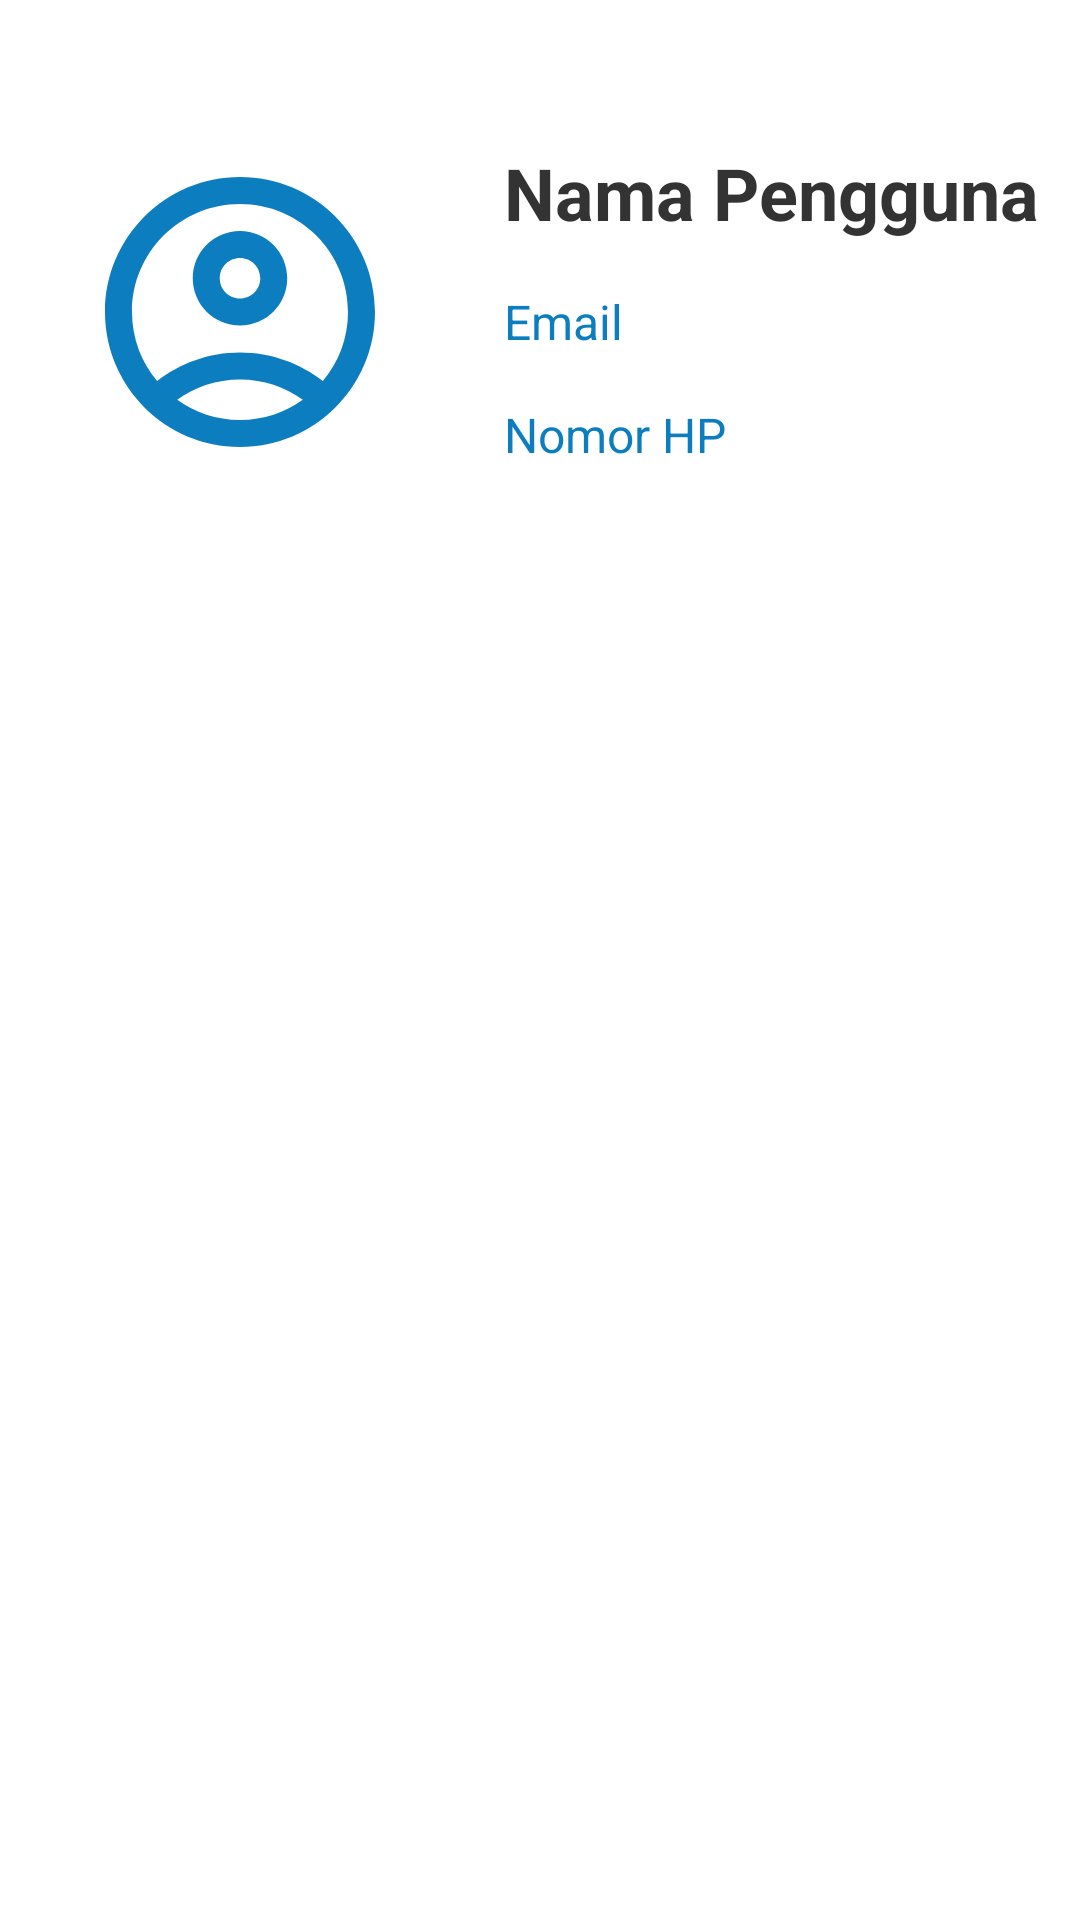

Point at icon controls on the screen. Image size 1080x1920, points as [x,y].
akun: [240,312]
